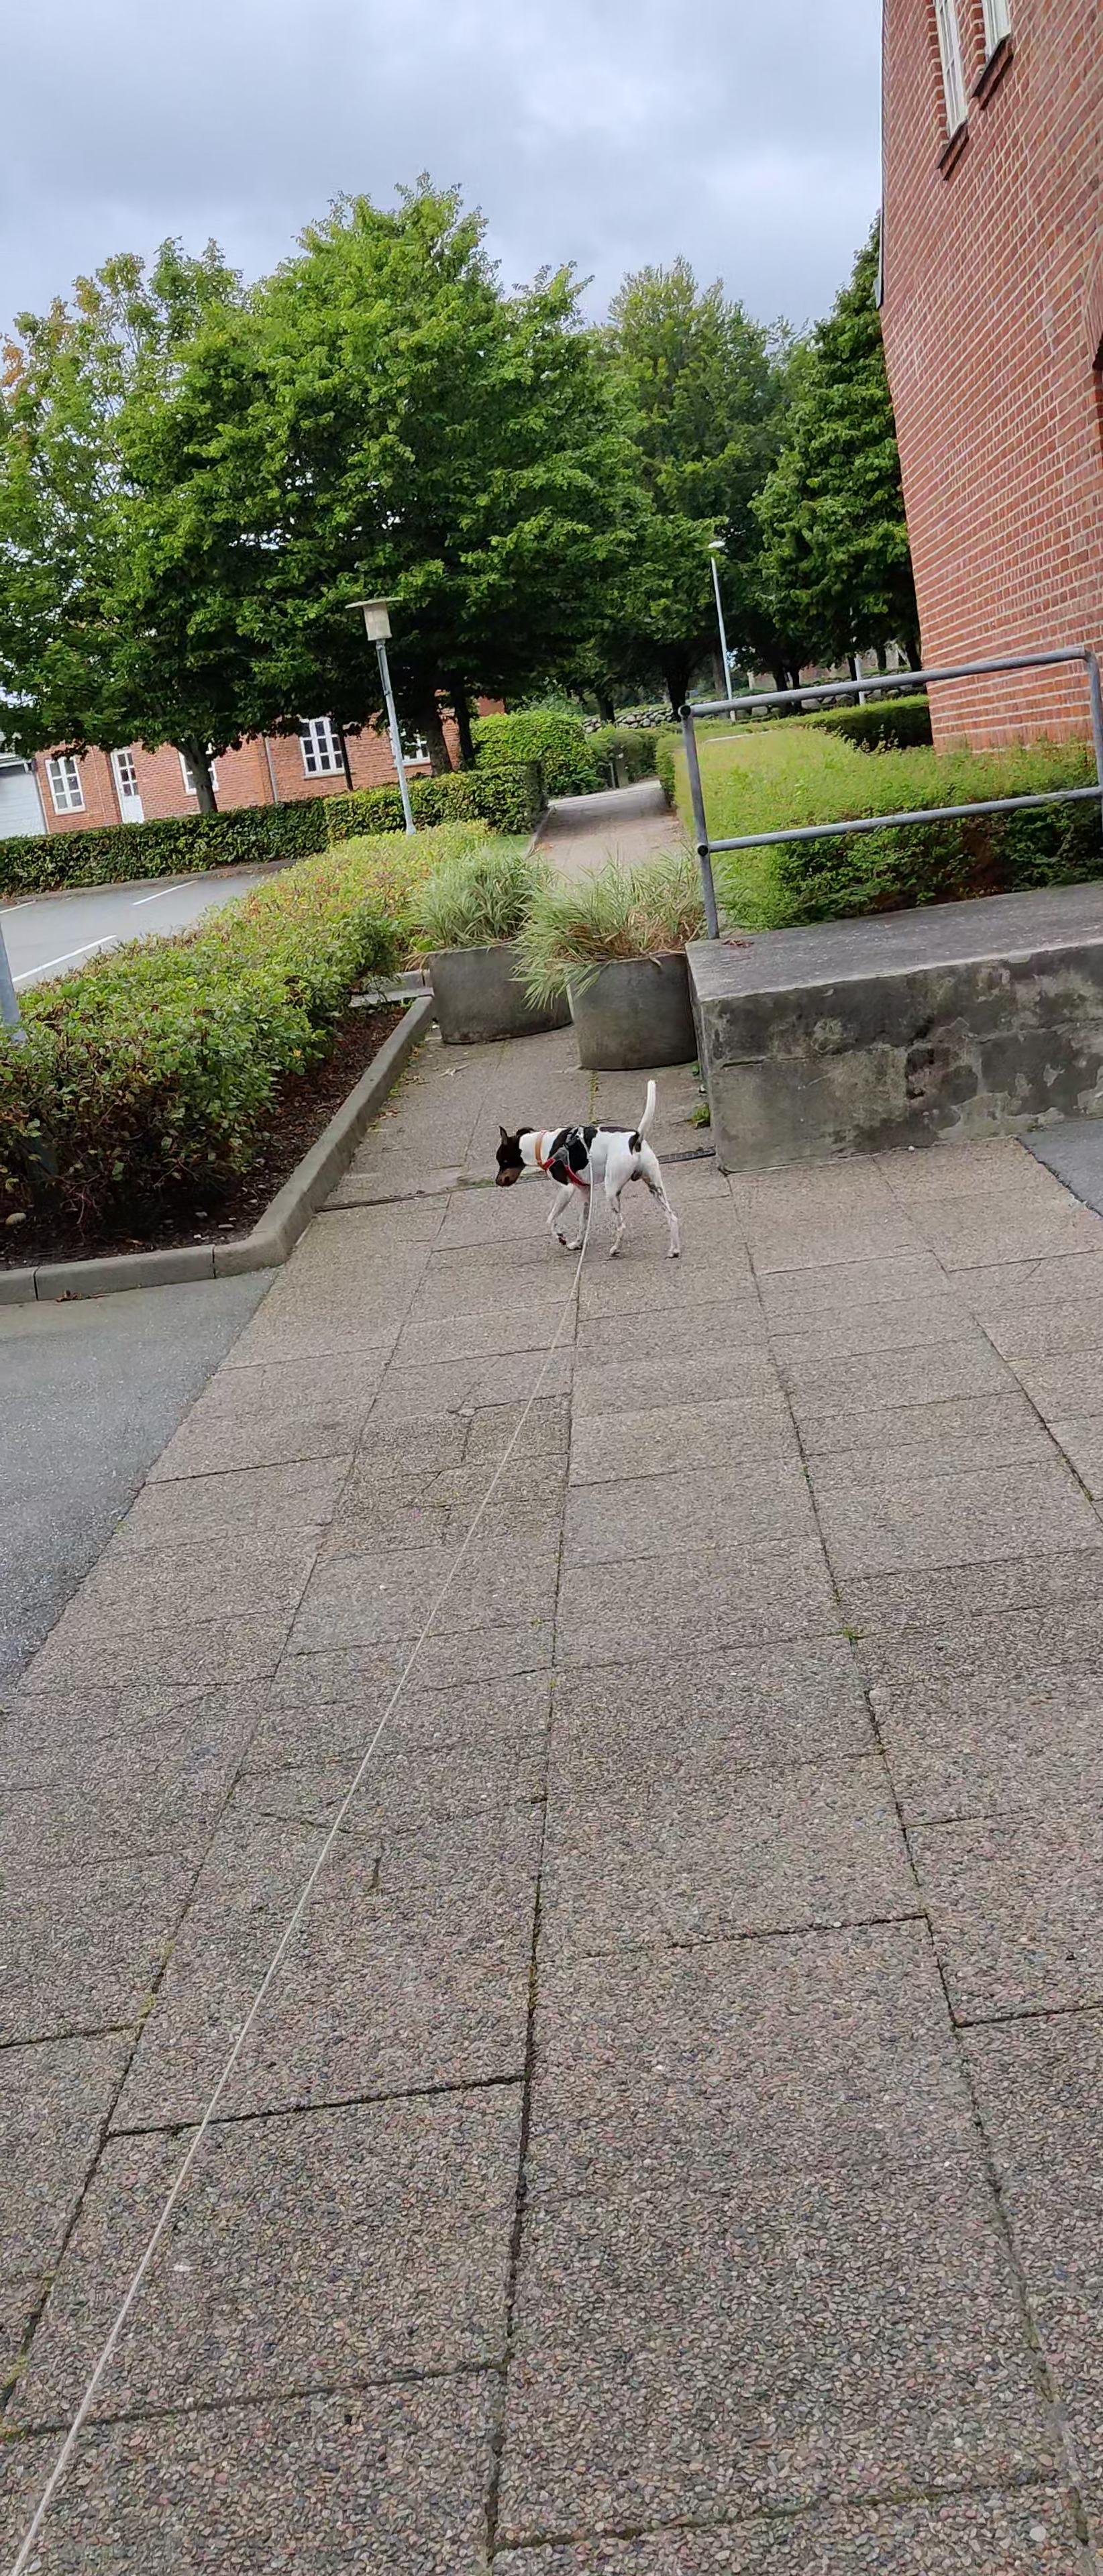Dog: (475, 1071, 697, 1272)
